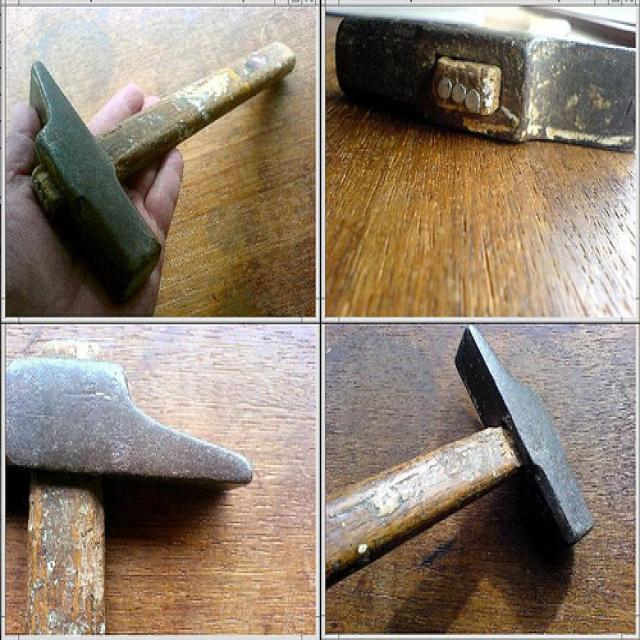hammer: (0, 334, 267, 622), (16, 32, 302, 298), (330, 324, 601, 604), (332, 9, 640, 172)
